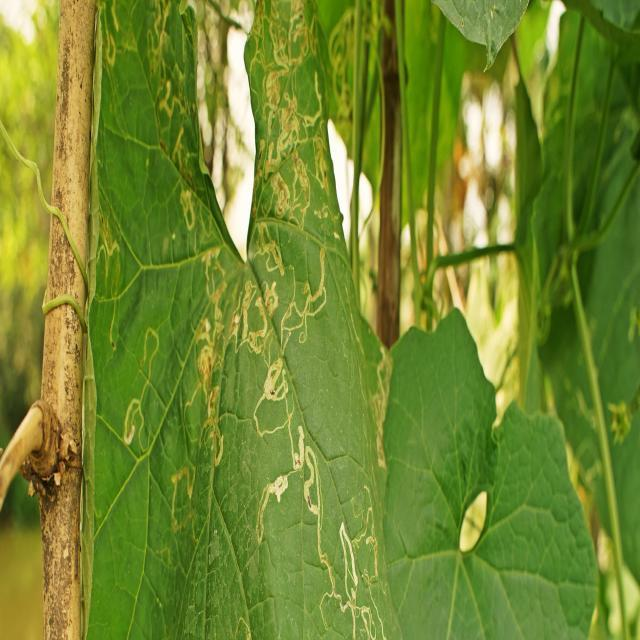Serpentine leafminer: (233, 272, 336, 593), (168, 150, 231, 526), (254, 9, 334, 272), (102, 0, 196, 140), (114, 324, 166, 472), (336, 512, 389, 640), (98, 202, 124, 290)
